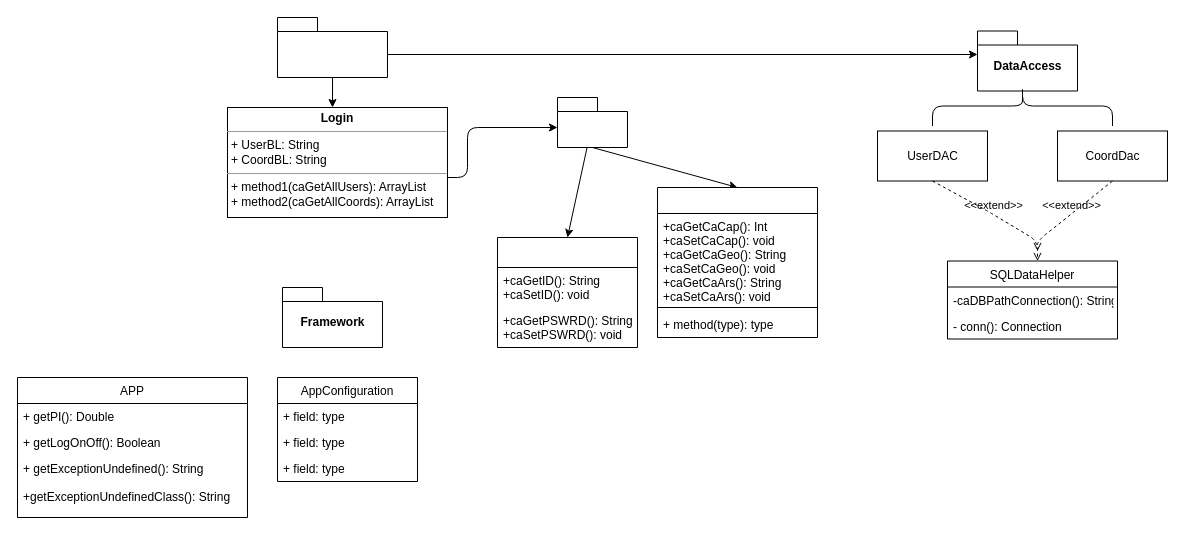
Some shapes in this 1185 by 538 pixel diagram are drawn without their labels. The shapes that lost their labels are listed below. From the top down, each one's box as (x1, y1, x2, y2) in pixels, then its label:
(276, 16, 388, 78): BusinessLogic
(556, 96, 628, 148): Entities
(656, 186, 818, 338): Coord
(496, 236, 638, 348): User
